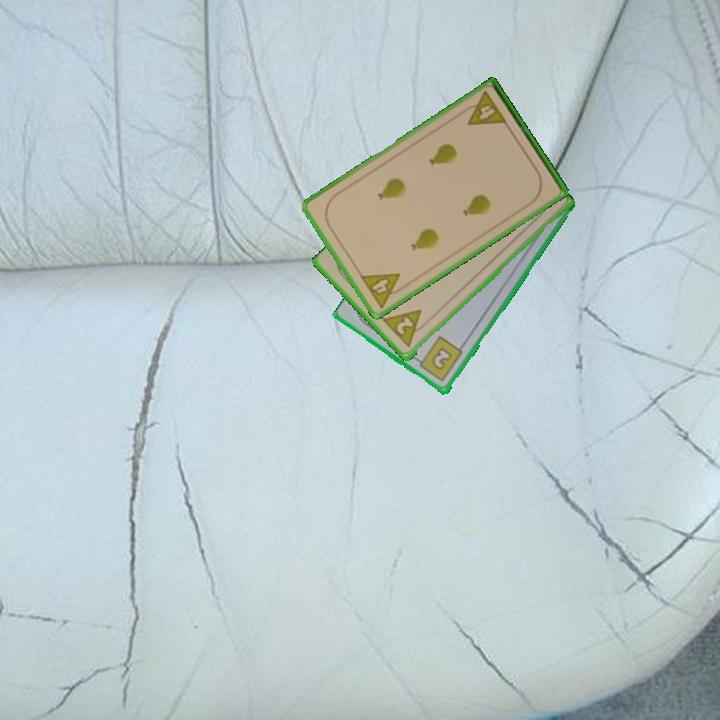2b: (412, 333, 466, 385)
2p: (392, 314, 416, 338)
4p: (356, 270, 410, 311), (458, 88, 509, 129)
